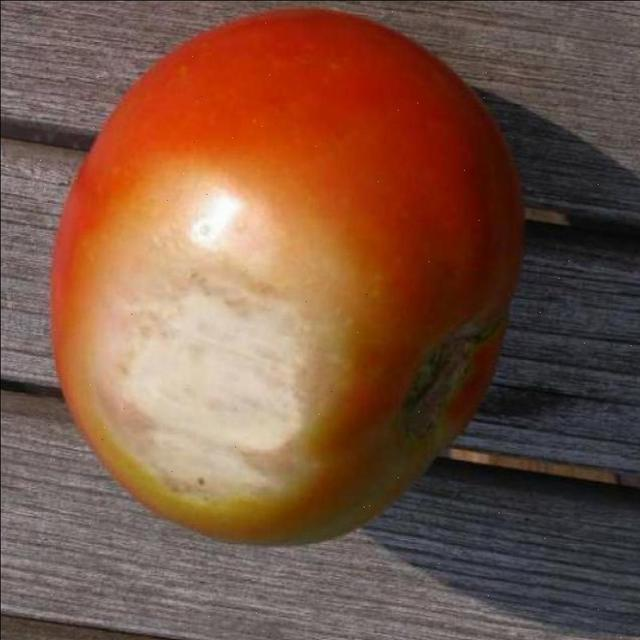Sunscald Fruit: (62, 111, 233, 352)
